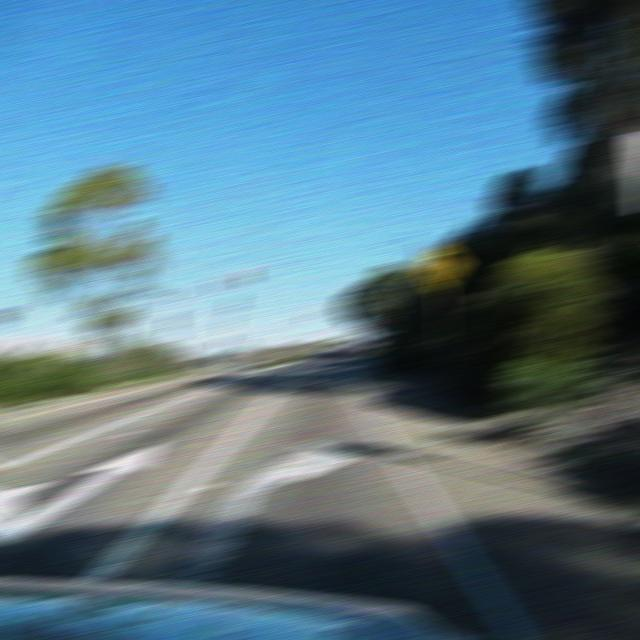pedestrianCrossing: (414, 242, 467, 294)
